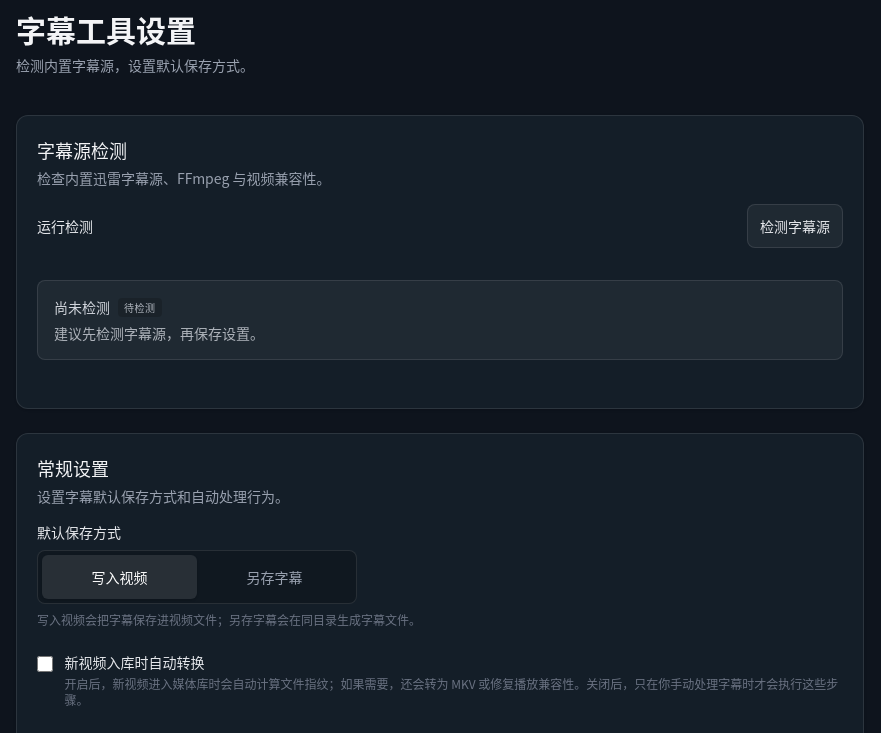
Test case: ConfigPageApp › 加载配置后显示表单，并在字幕源检测成功后渲染结构化状态
Click the button "检测字幕源" at (795,226), box [747,204,843,248]
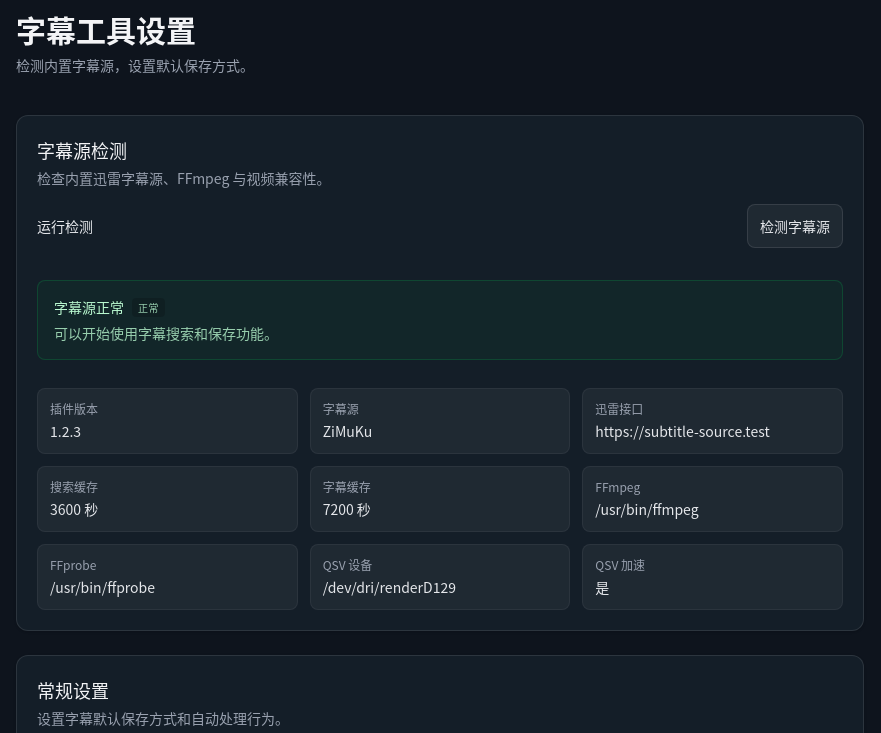
Result: the text "字幕源正常" is shown at [54,297,124,317]
Result: the text "插件版本" is shown at [50,400,98,417]
Result: the text "ZiMuKu" is shown at [323,421,372,441]
